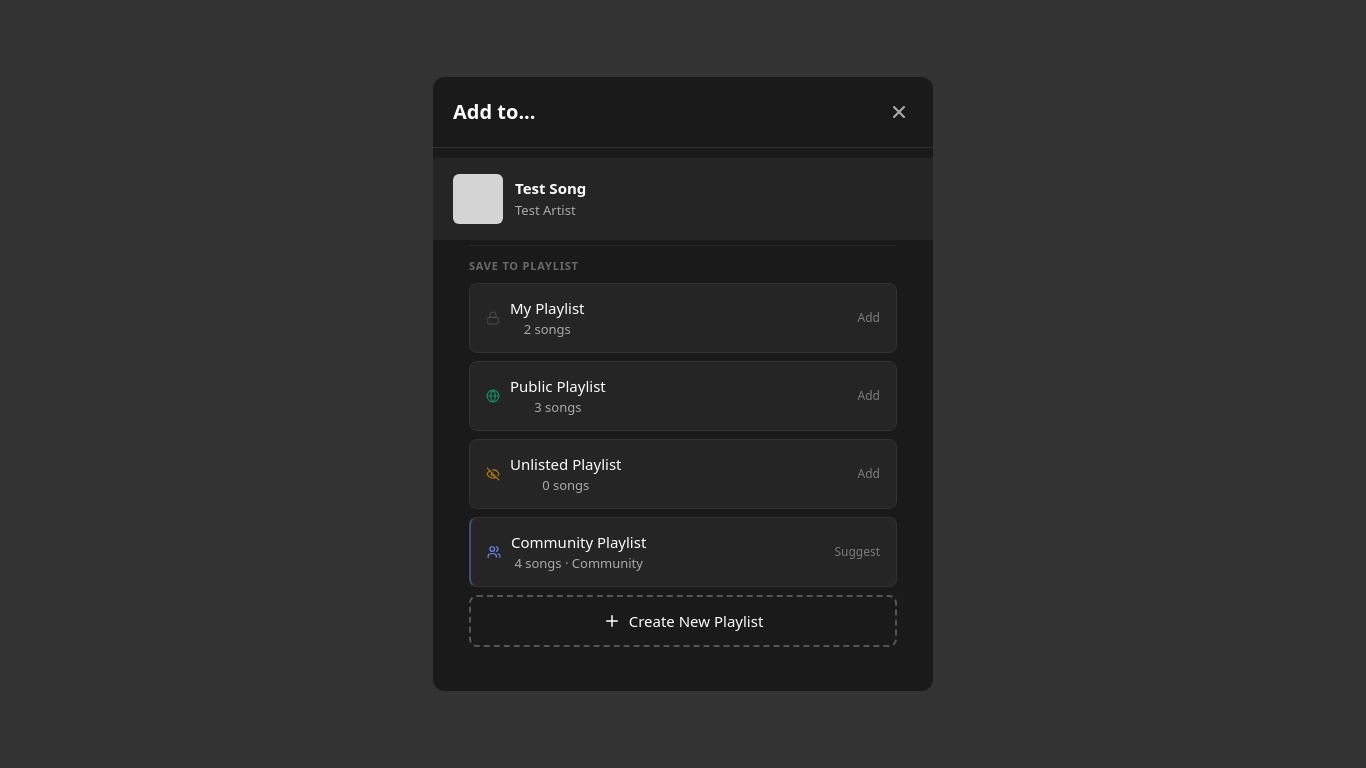
Test: PlaylistWizard — create playlist › opens and cancels the create playlist form
(page scrolled)
Click the button "Create New Playlist": [683, 621] box [469,595,897,647]
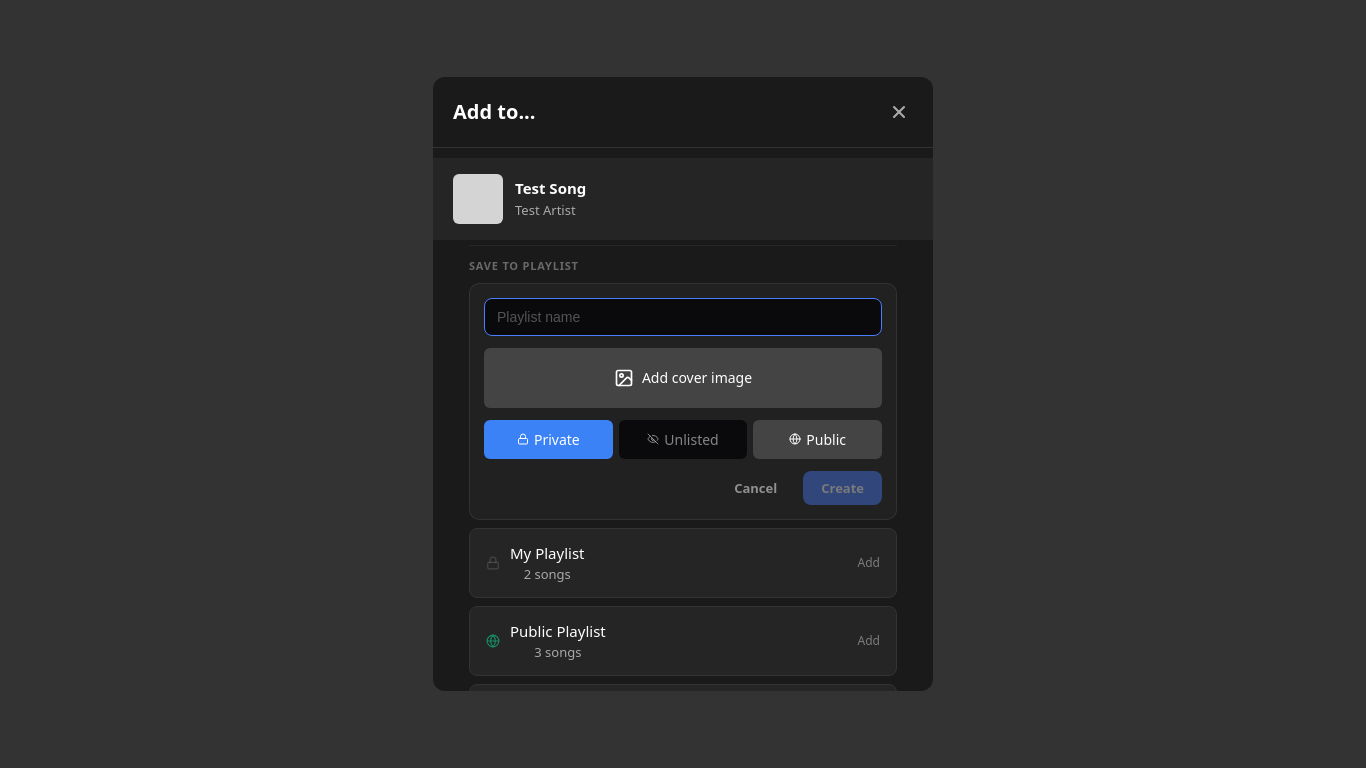
Expected: the button "Create" is disabled, [803,471,882,505]
Expected: the field with placeholder "Playlist name" is shown, [484,298,882,336]
Click the button "Cancel": [756, 488] box [716,471,795,505]
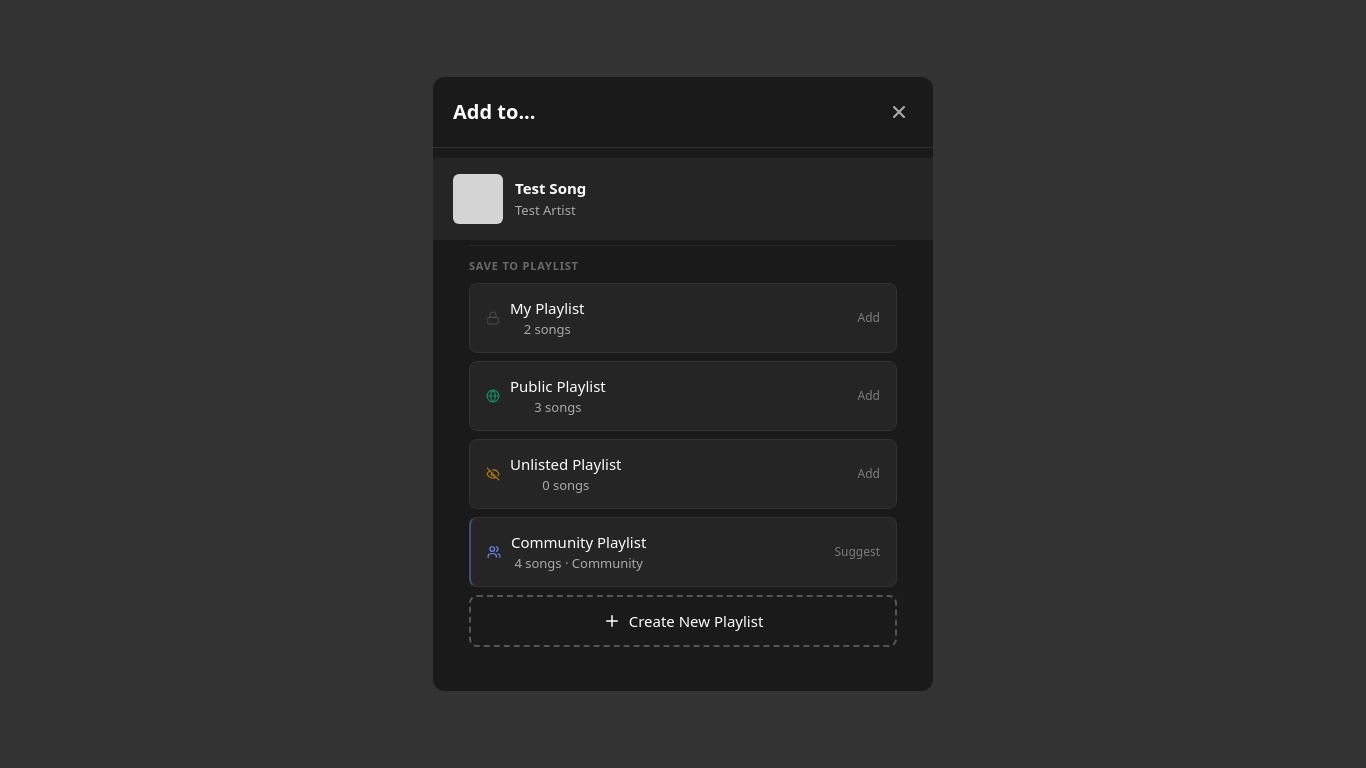
Expected: the field with placeholder "playlist name" is not shown
Expected: the button "Create New Playlist" is shown, [469,595,897,647]
